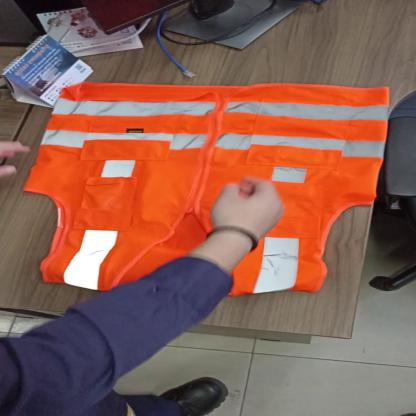colete: (23, 77, 385, 295)
